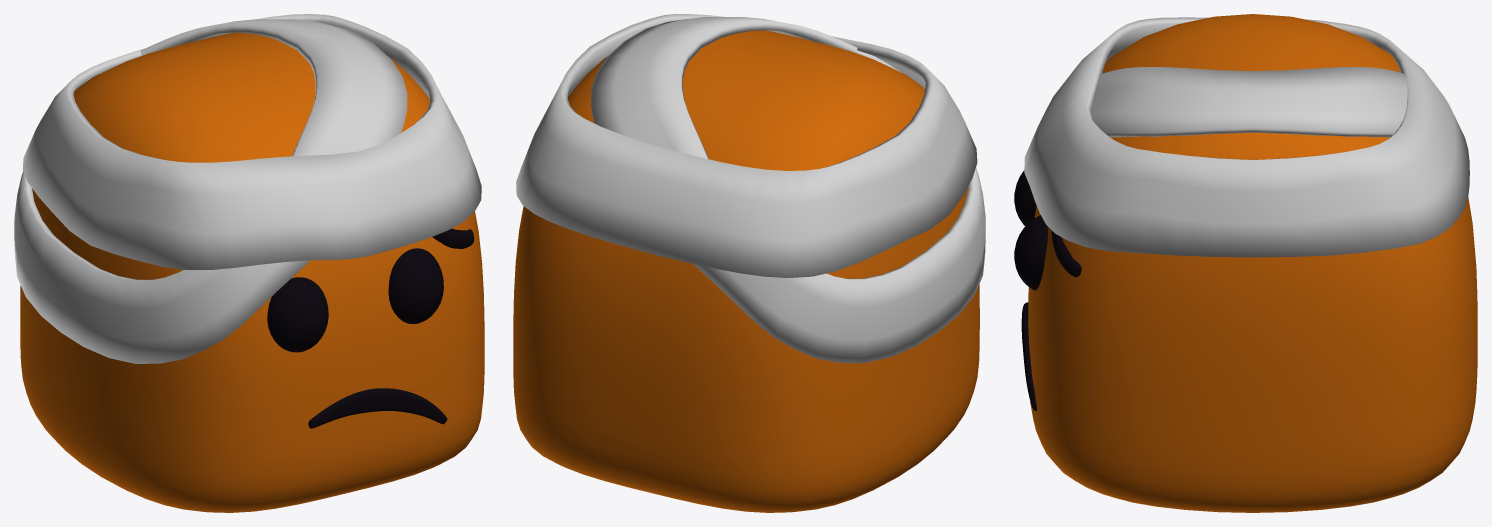
File: Emoji 058 face with head-bandage.fbx
The picture shows the model from 3 angles, left to right: view 1: azimuth 30°, elevation 25°; view 2: azimuth 150°, elevation 25°; view 3: azimuth 270°, elevation 25°; orthographic projection. The views are drawn at different scales.
Visible parts, largest first — view 1: Emoji 058 face with head-bandage, Emoji 058 face with head-bandage.002, Emoji 058 face with head-bandage.001, Eyes.083, Cube.114, Cube.115; view 2: Emoji 058 face with head-bandage, Emoji 058 face with head-bandage.002, Emoji 058 face with head-bandage.001; view 3: Emoji 058 face with head-bandage, Emoji 058 face with head-bandage.002, Emoji 058 face with head-bandage.001, Eyes.083, Cube.114, Cube.115.
Boxes of the visible parts, x1,y1,x2,y2 form: Emoji 058 face with head-bandage: (20,32,484,512); Emoji 058 face with head-bandage.002: (22,14,481,269); Emoji 058 face with head-bandage.001: (14,19,407,363); Eyes.083: (267,248,443,352); Cube.114: (308,388,447,428); Cube.115: (432,228,474,248); Emoji 058 face with head-bandage: (513,30,979,512); Emoji 058 face with head-bandage.002: (516,14,977,277); Emoji 058 face with head-bandage.001: (591,17,985,363); Emoji 058 face with head-bandage: (1028,14,1477,512); Emoji 058 face with head-bandage.002: (1024,17,1469,257); Emoji 058 face with head-bandage.001: (1091,67,1407,137); Eyes.083: (1014,170,1047,290); Cube.114: (1021,302,1036,410); Cube.115: (1051,230,1081,277).
Size of the model in its own units: 98.13 by 103 by 97.61.
